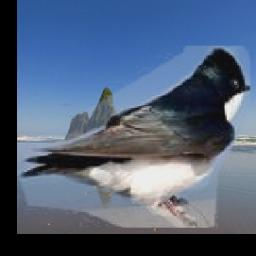Swallow: (18, 47, 251, 229)
